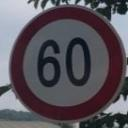speed_limit_60: (6, 3, 128, 124)
